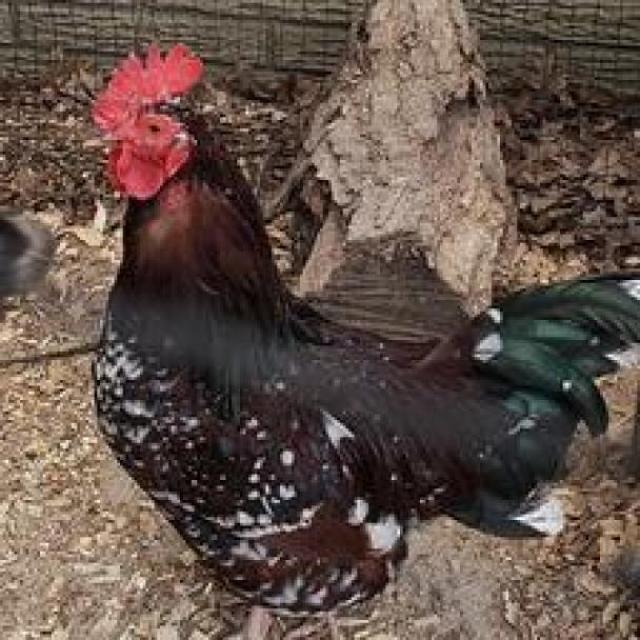Chicken: (63, 42, 640, 626)
